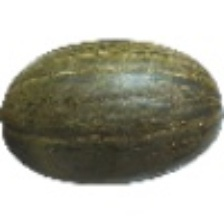honeydew: (45, 53, 191, 211)
